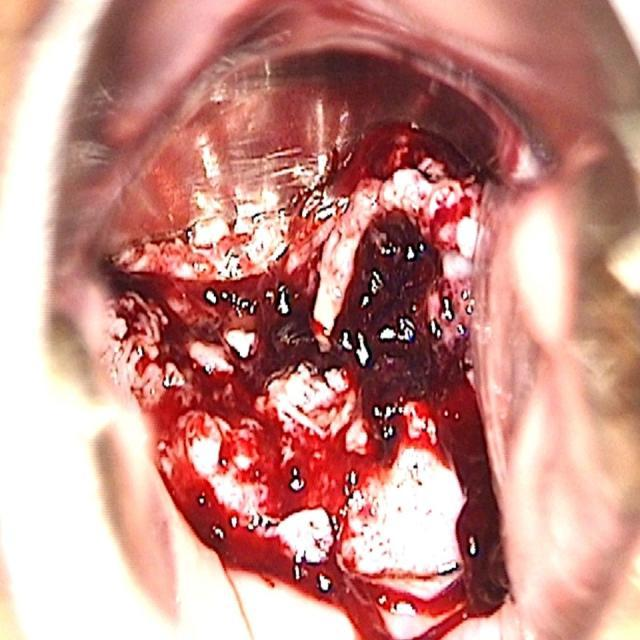cervical_lesion: (87, 101, 525, 635)
